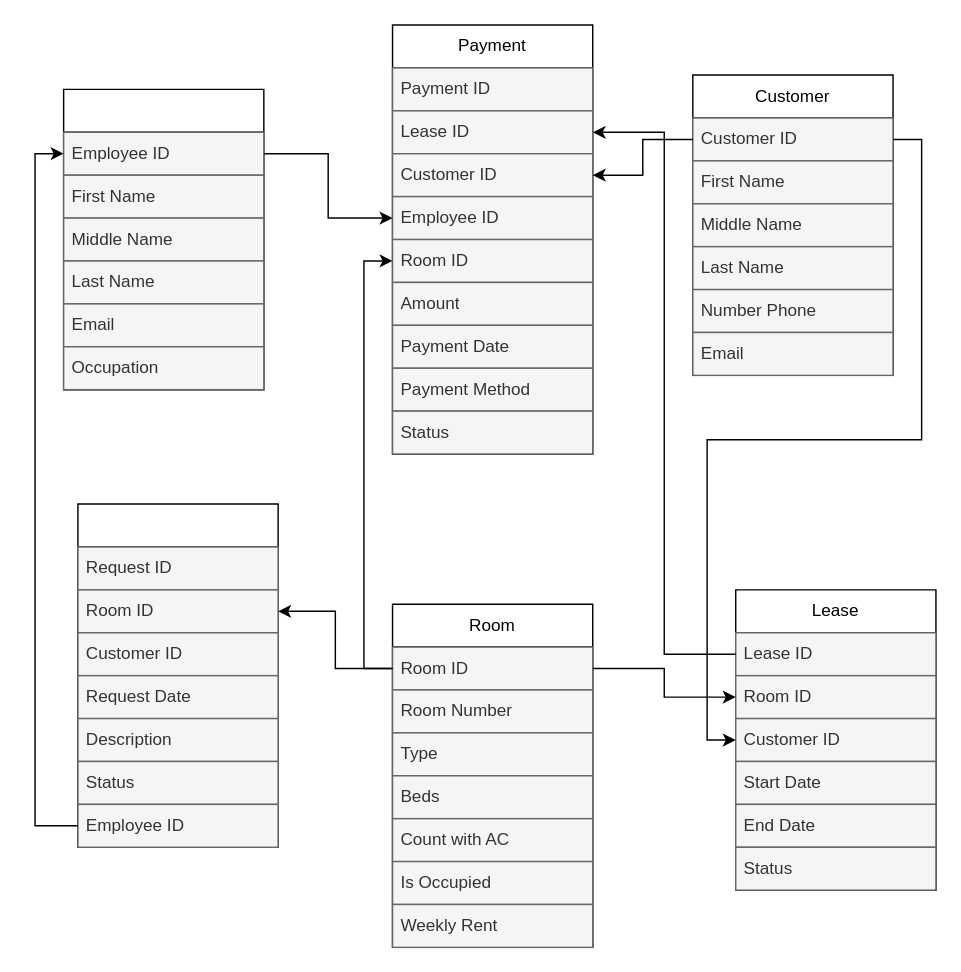
This 961x972 diagram has some shape labels left out. Each missing label, with the box of its shape:
Mantinience: (77, 503, 278, 847)
Staff: (62, 88, 264, 390)
